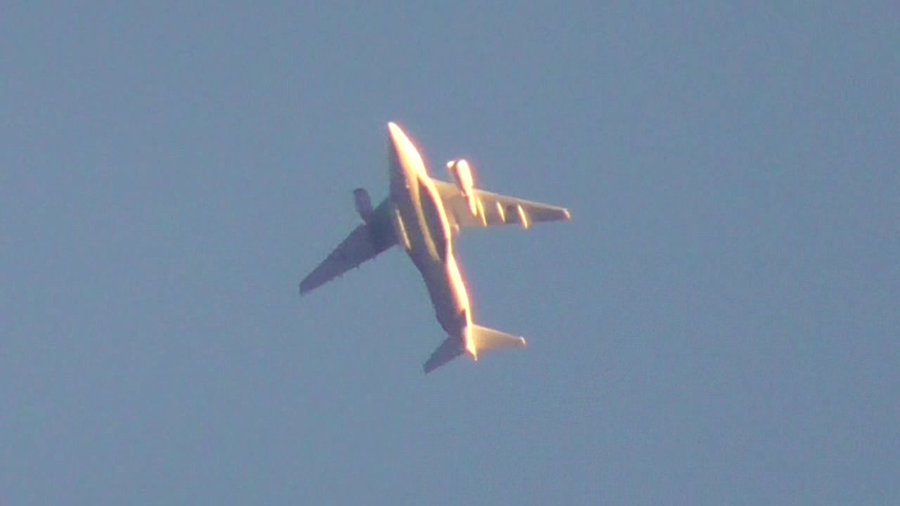airplane: (298, 121, 572, 376)
